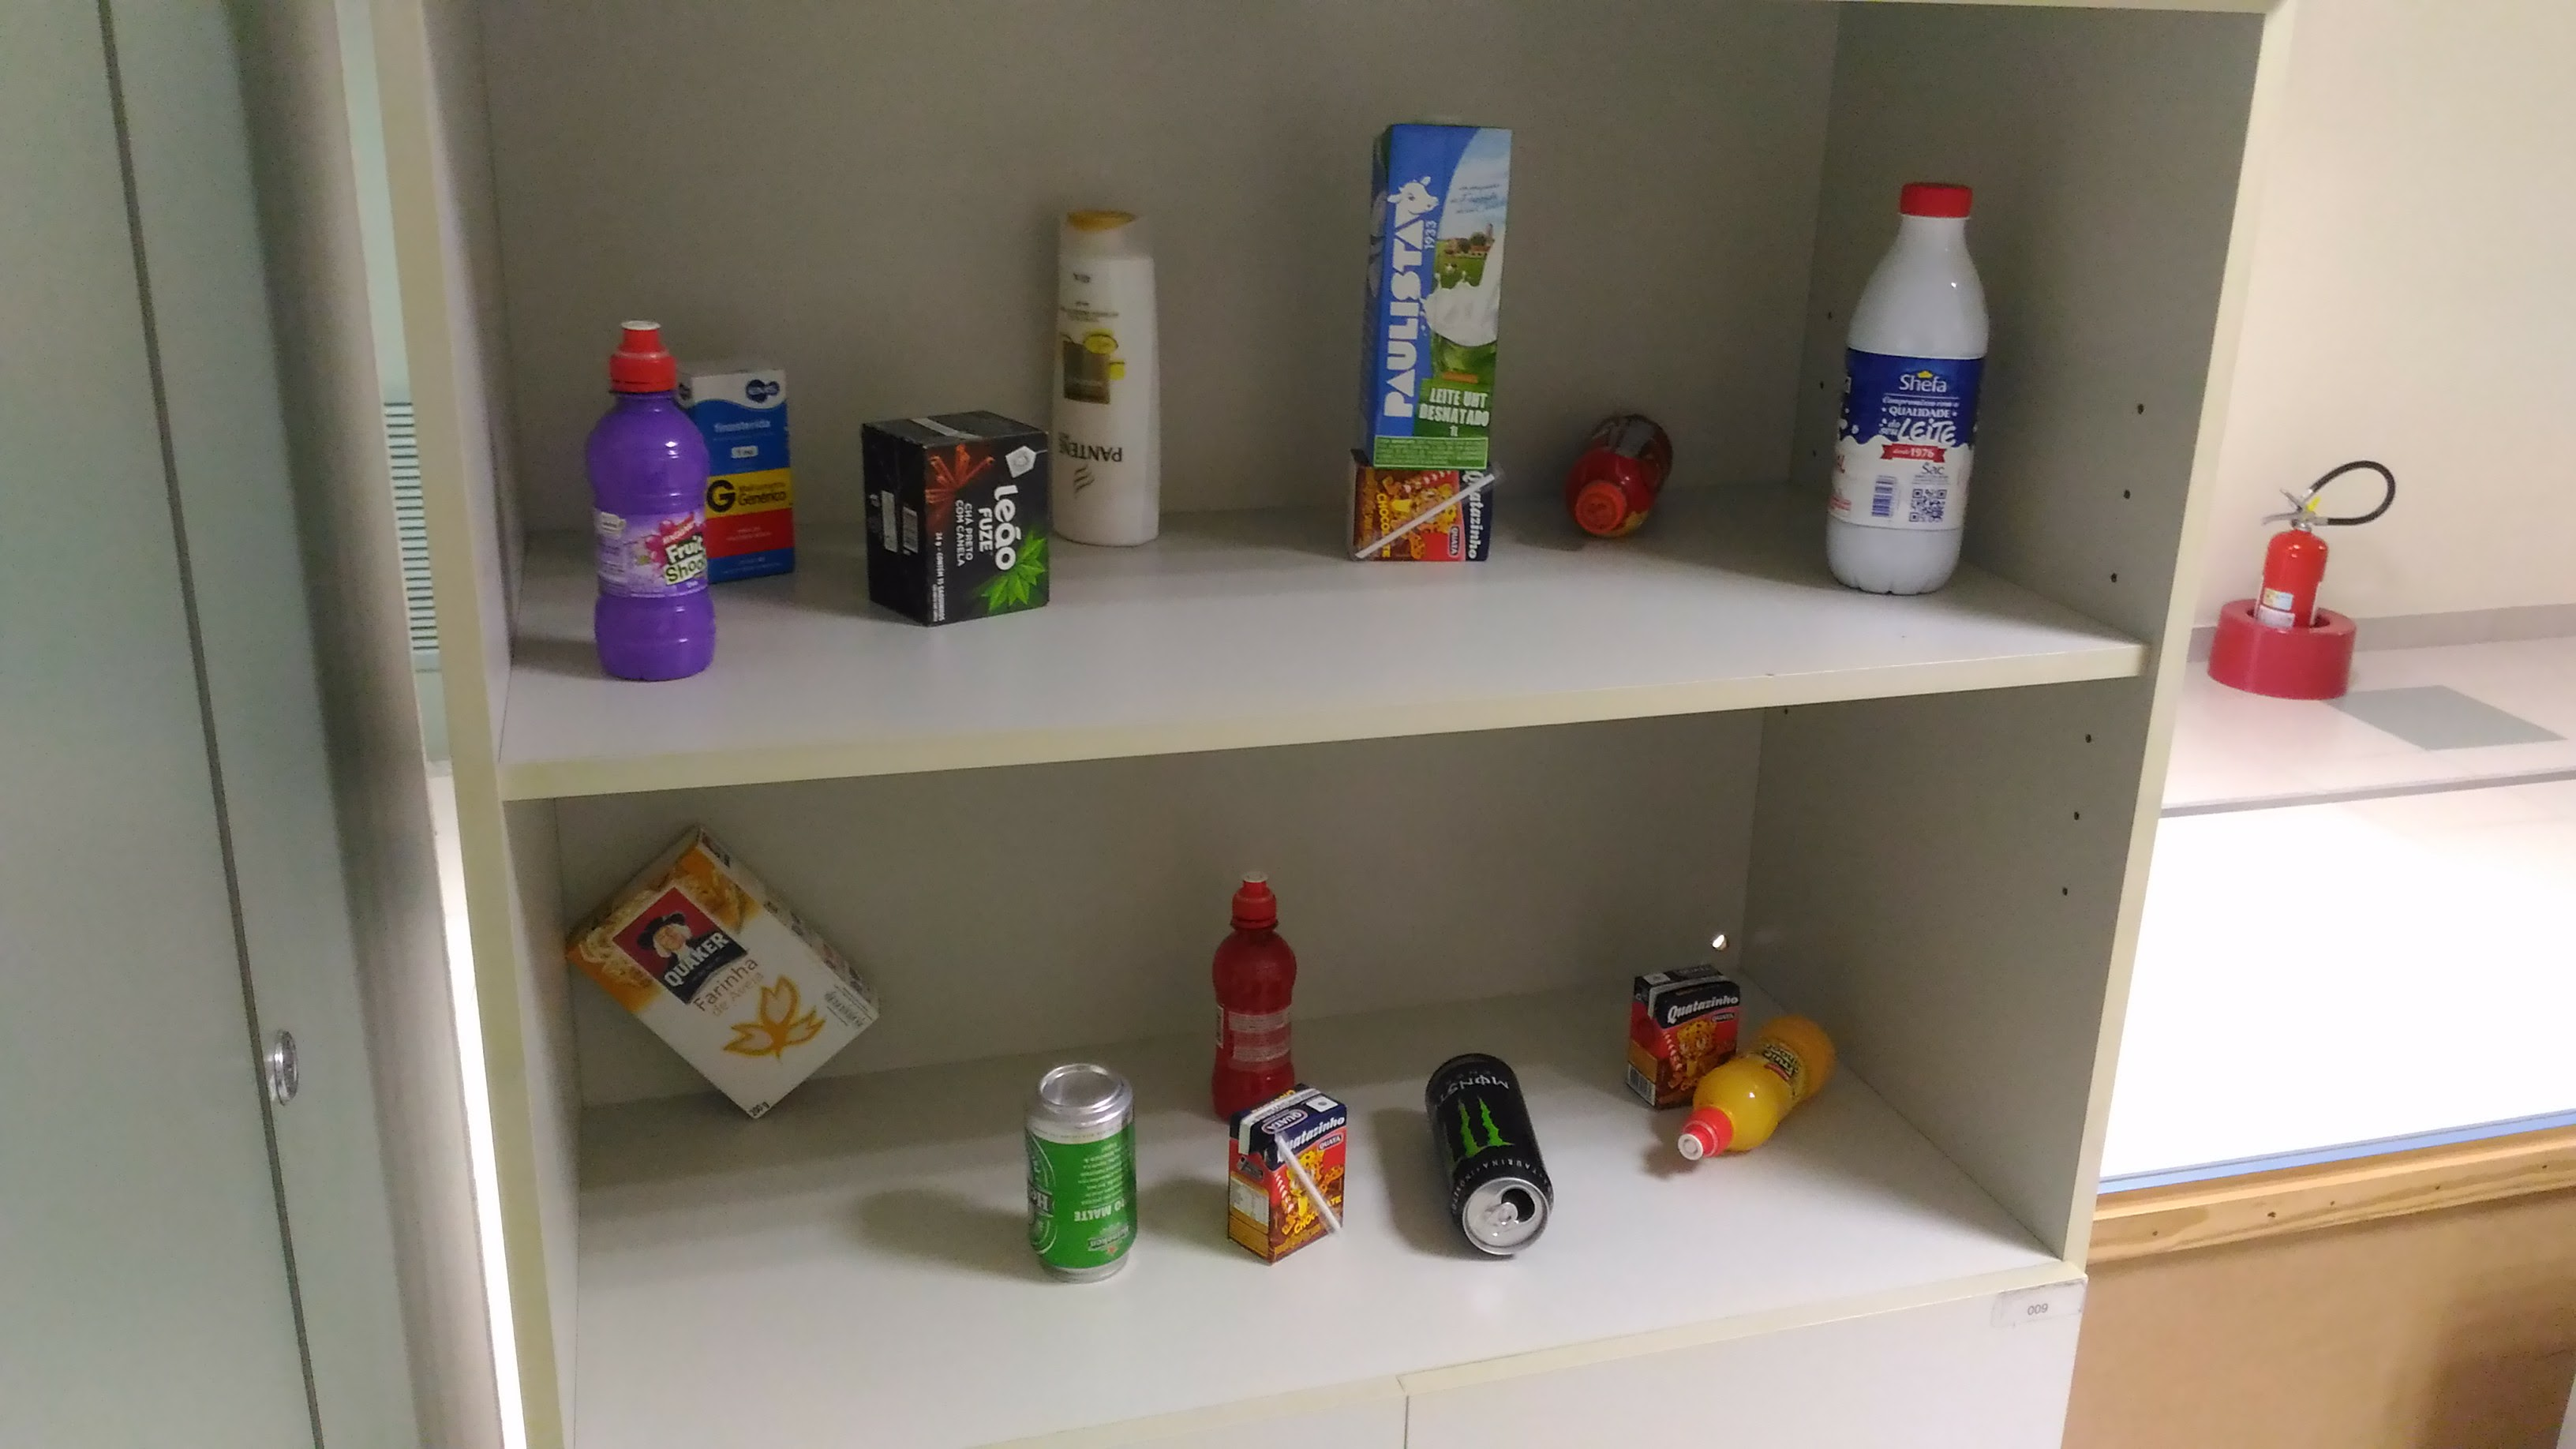cereal: (552, 823, 887, 1131)
chocolate_milk: (1219, 1088, 1365, 1277), (1333, 460, 1507, 571)
heineken: (1021, 1060, 1144, 1293)
iron_man: (1562, 397, 1680, 555)
medicine: (694, 350, 800, 594)
milk_bottle: (1822, 164, 1996, 614)
milk_box: (1353, 101, 1526, 472)
monster: (1416, 1040, 1554, 1273)
purple_juice: (591, 314, 710, 673)
red_juice: (1199, 867, 1297, 1119)
shampoo: (1045, 196, 1171, 555)
tea_box: (852, 393, 1053, 642)
